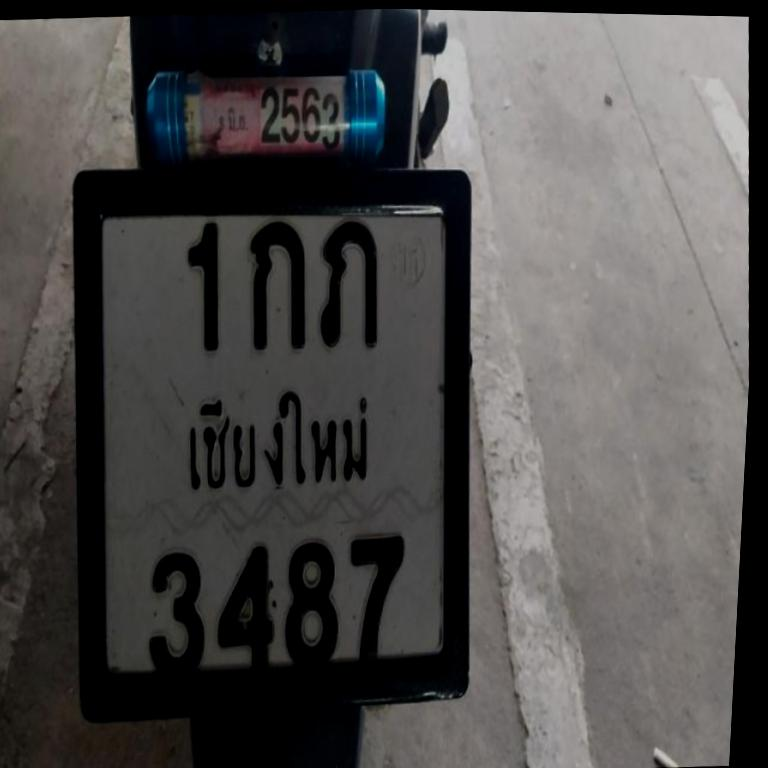license plate: (32, 141, 506, 731)
